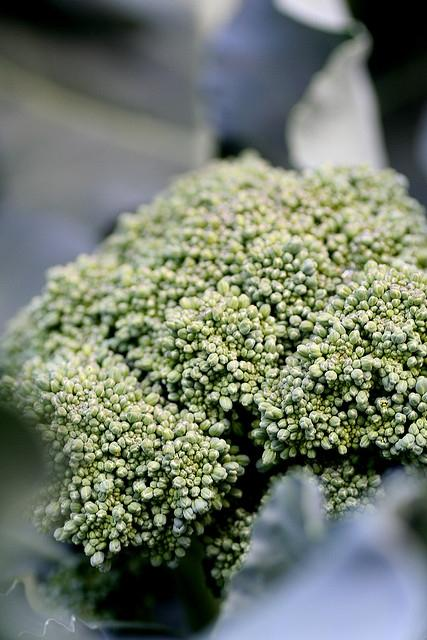broccoli: (0, 146, 427, 586)
